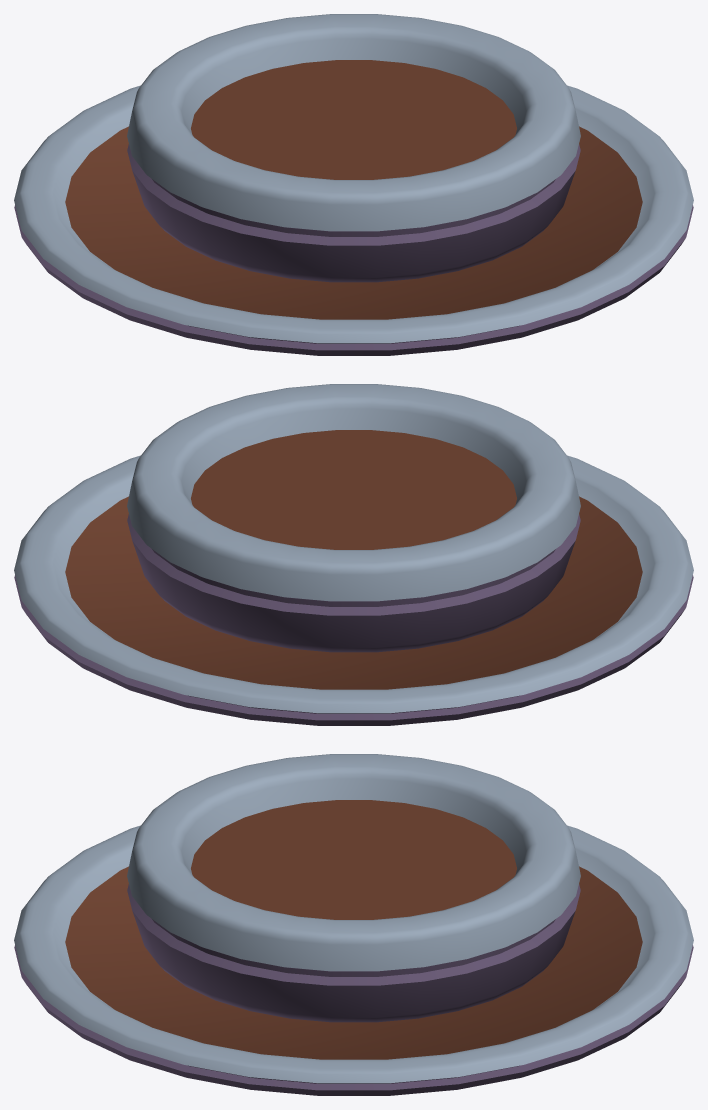
File: PotTree.fbx
3 views of the same model, one above another, from view 1: azimuth 30°, elevation 25°; view 2: azimuth 150°, elevation 25°; view 3: azimuth 270°, elevation 25° (orthographic).
Visible parts, largest first — view 1: TreePot_LOD0; view 2: TreePot_LOD0; view 3: TreePot_LOD0.
Part boxes in pixels (left/top/right/bottom): TreePot_LOD0: left=14, top=14, right=693, bottom=355; TreePot_LOD0: left=14, top=384, right=693, bottom=725; TreePot_LOD0: left=14, top=754, right=693, bottom=1095.
Size of what is drawn, in the model's own units: 504 by 91.62 by 507.
